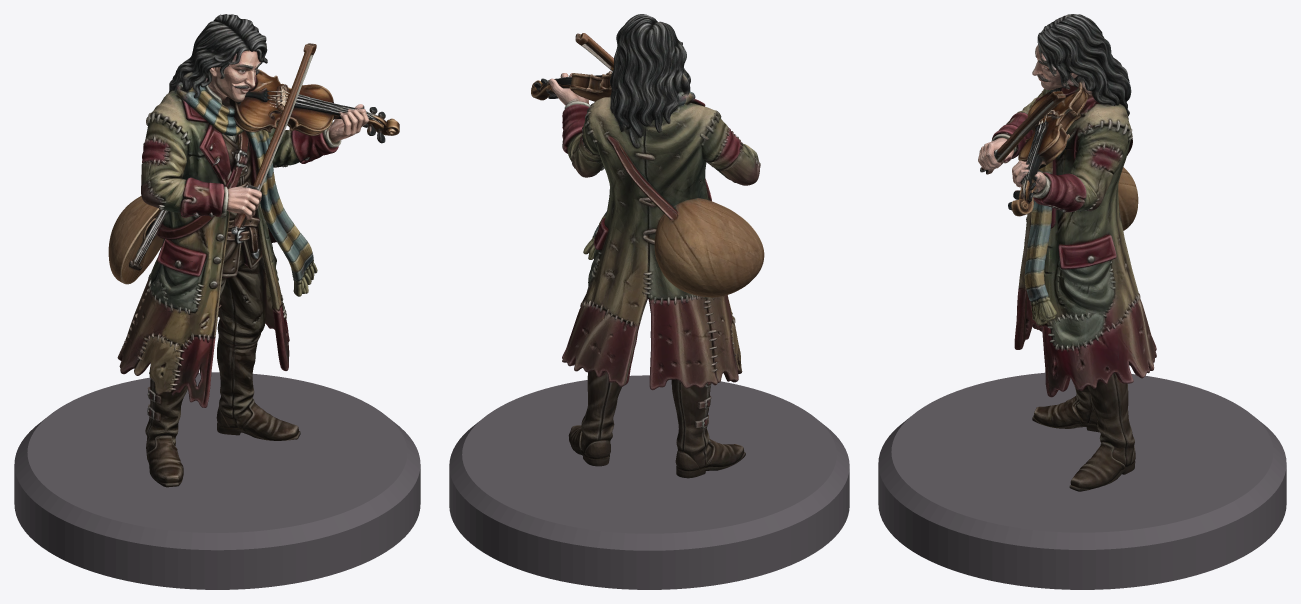
Rendered from luca.glb.
The picture shows the model from 3 angles, left to right: view 1: azimuth 30°, elevation 25°; view 2: azimuth 150°, elevation 25°; view 3: azimuth 270°, elevation 25°; orthographic projection.
Visible parts, largest first — view 1: base, figure; view 2: base, figure; view 3: base, figure.
Part boxes in pixels (box(x1,y1,x2,y2)): base: box(14, 372, 420, 589); figure: box(108, 14, 399, 487); base: box(449, 375, 849, 589); figure: box(531, 14, 764, 478); base: box(878, 372, 1286, 589); figure: box(978, 14, 1156, 491).
Bounding box in the file's own units: 25 × 33.2 × 25.
1 material, 1 textured.
